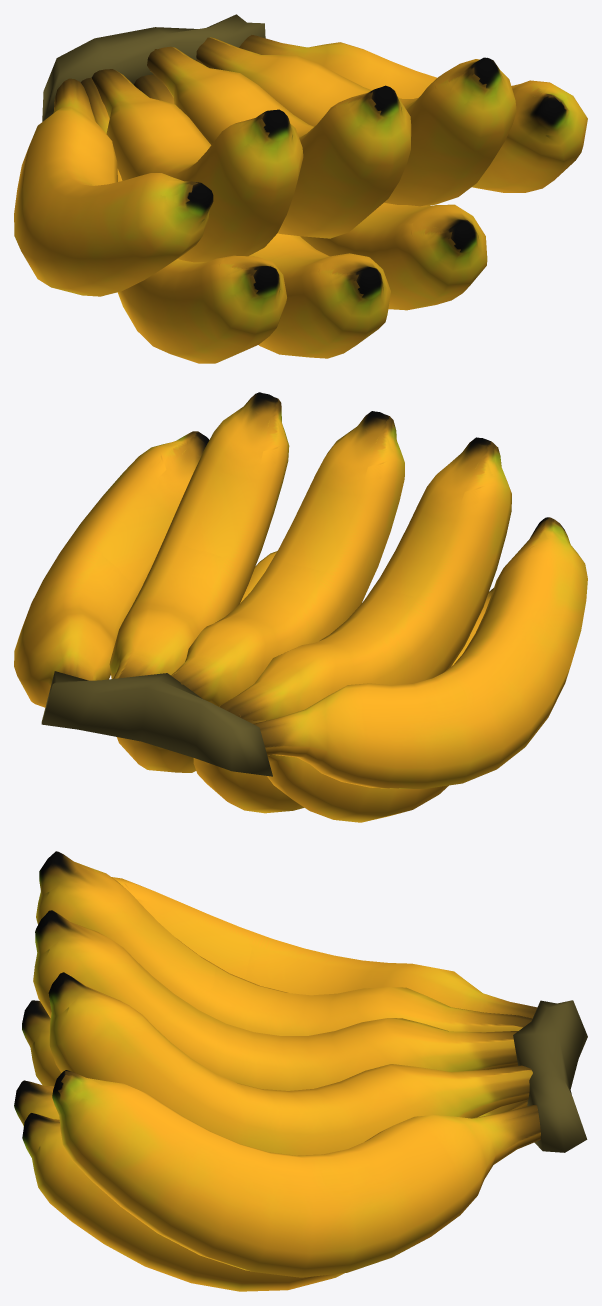
Rendered from Banana 2.fbx.
3 renders of one model, top to bottom at view 1: azimuth 30°, elevation 25°; view 2: azimuth 150°, elevation 25°; view 3: azimuth 270°, elevation 25°, orthographic. The views are drawn at different scales.
Visible parts, largest first — view 1: Banana, Banana apex; view 2: Banana, Banana apex; view 3: Banana, Banana apex.
Part boxes in pixels (left/top/right/bottom): Banana: left=14, top=35, right=587, bottom=363; Banana apex: left=42, top=14, right=265, bottom=121; Banana: left=14, top=392, right=587, bottom=822; Banana apex: left=41, top=671, right=272, bottom=776; Banana: left=14, top=851, right=540, bottom=1291; Banana apex: left=513, top=1000, right=587, bottom=1152.
Bounding box in the file's own units: 1484 × 901 × 1328.
Materials: 2 (1 with a texture image).
